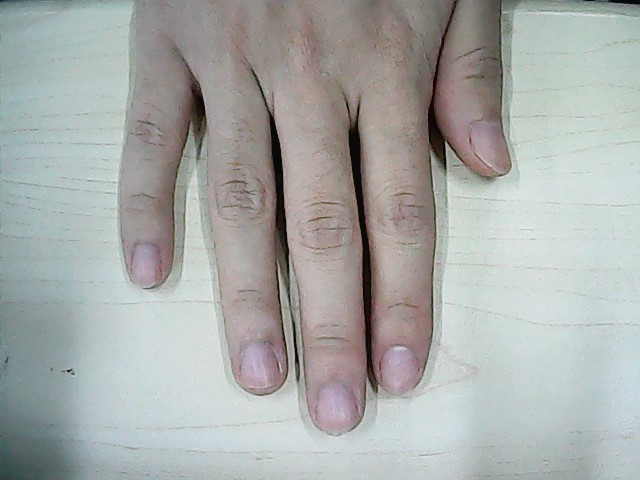nail: (464, 117, 517, 175), (313, 375, 361, 436), (237, 335, 282, 395), (378, 342, 420, 393), (127, 241, 164, 288)
